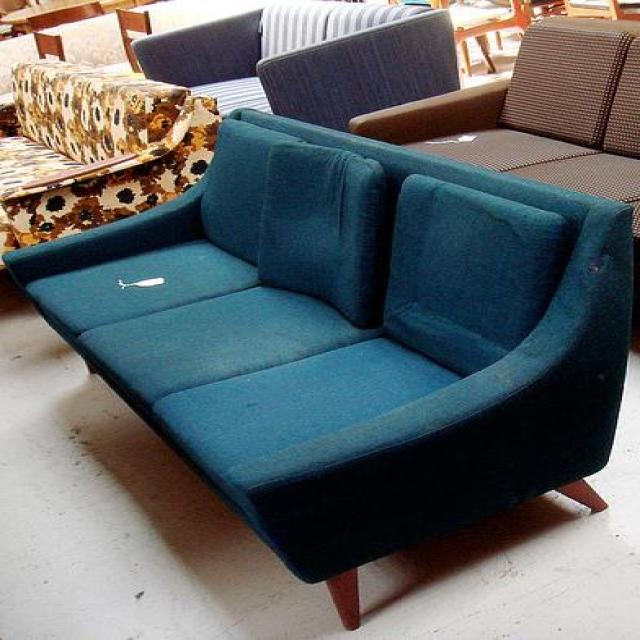sofa: (4, 104, 636, 632)
